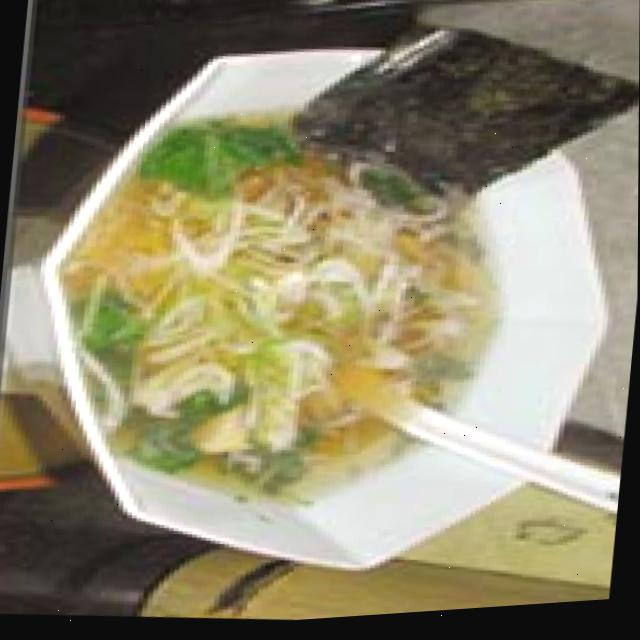面条主食: (1, 10, 640, 628)
